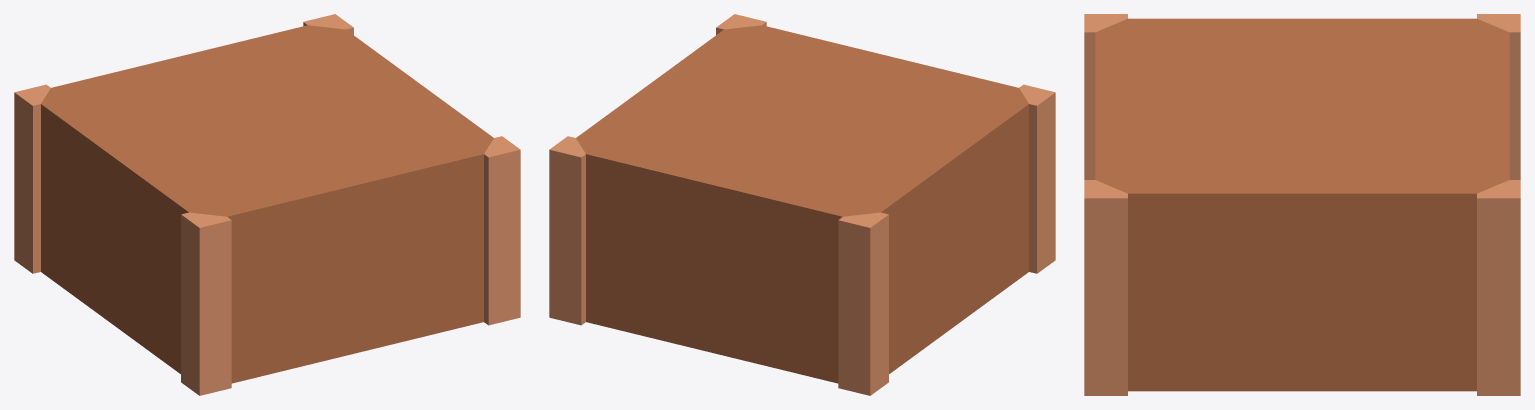
File: wallWoodBlockHalf.fbx
3 views of the same model, side by side, from view 1: azimuth 30°, elevation 25°; view 2: azimuth 150°, elevation 25°; view 3: azimuth 270°, elevation 25° (orthographic). The views are drawn at different scales.
Visible parts, largest first — view 1: wallWoodBlockHalf; view 2: wallWoodBlockHalf; view 3: wallWoodBlockHalf.
Part boxes in pixels (bbox=[...]): wallWoodBlockHalf: bbox=[14, 14, 520, 395]; wallWoodBlockHalf: bbox=[549, 14, 1055, 395]; wallWoodBlockHalf: bbox=[1084, 14, 1520, 395].
Bounding box in the file's own units: 10 × 5 × 10.
